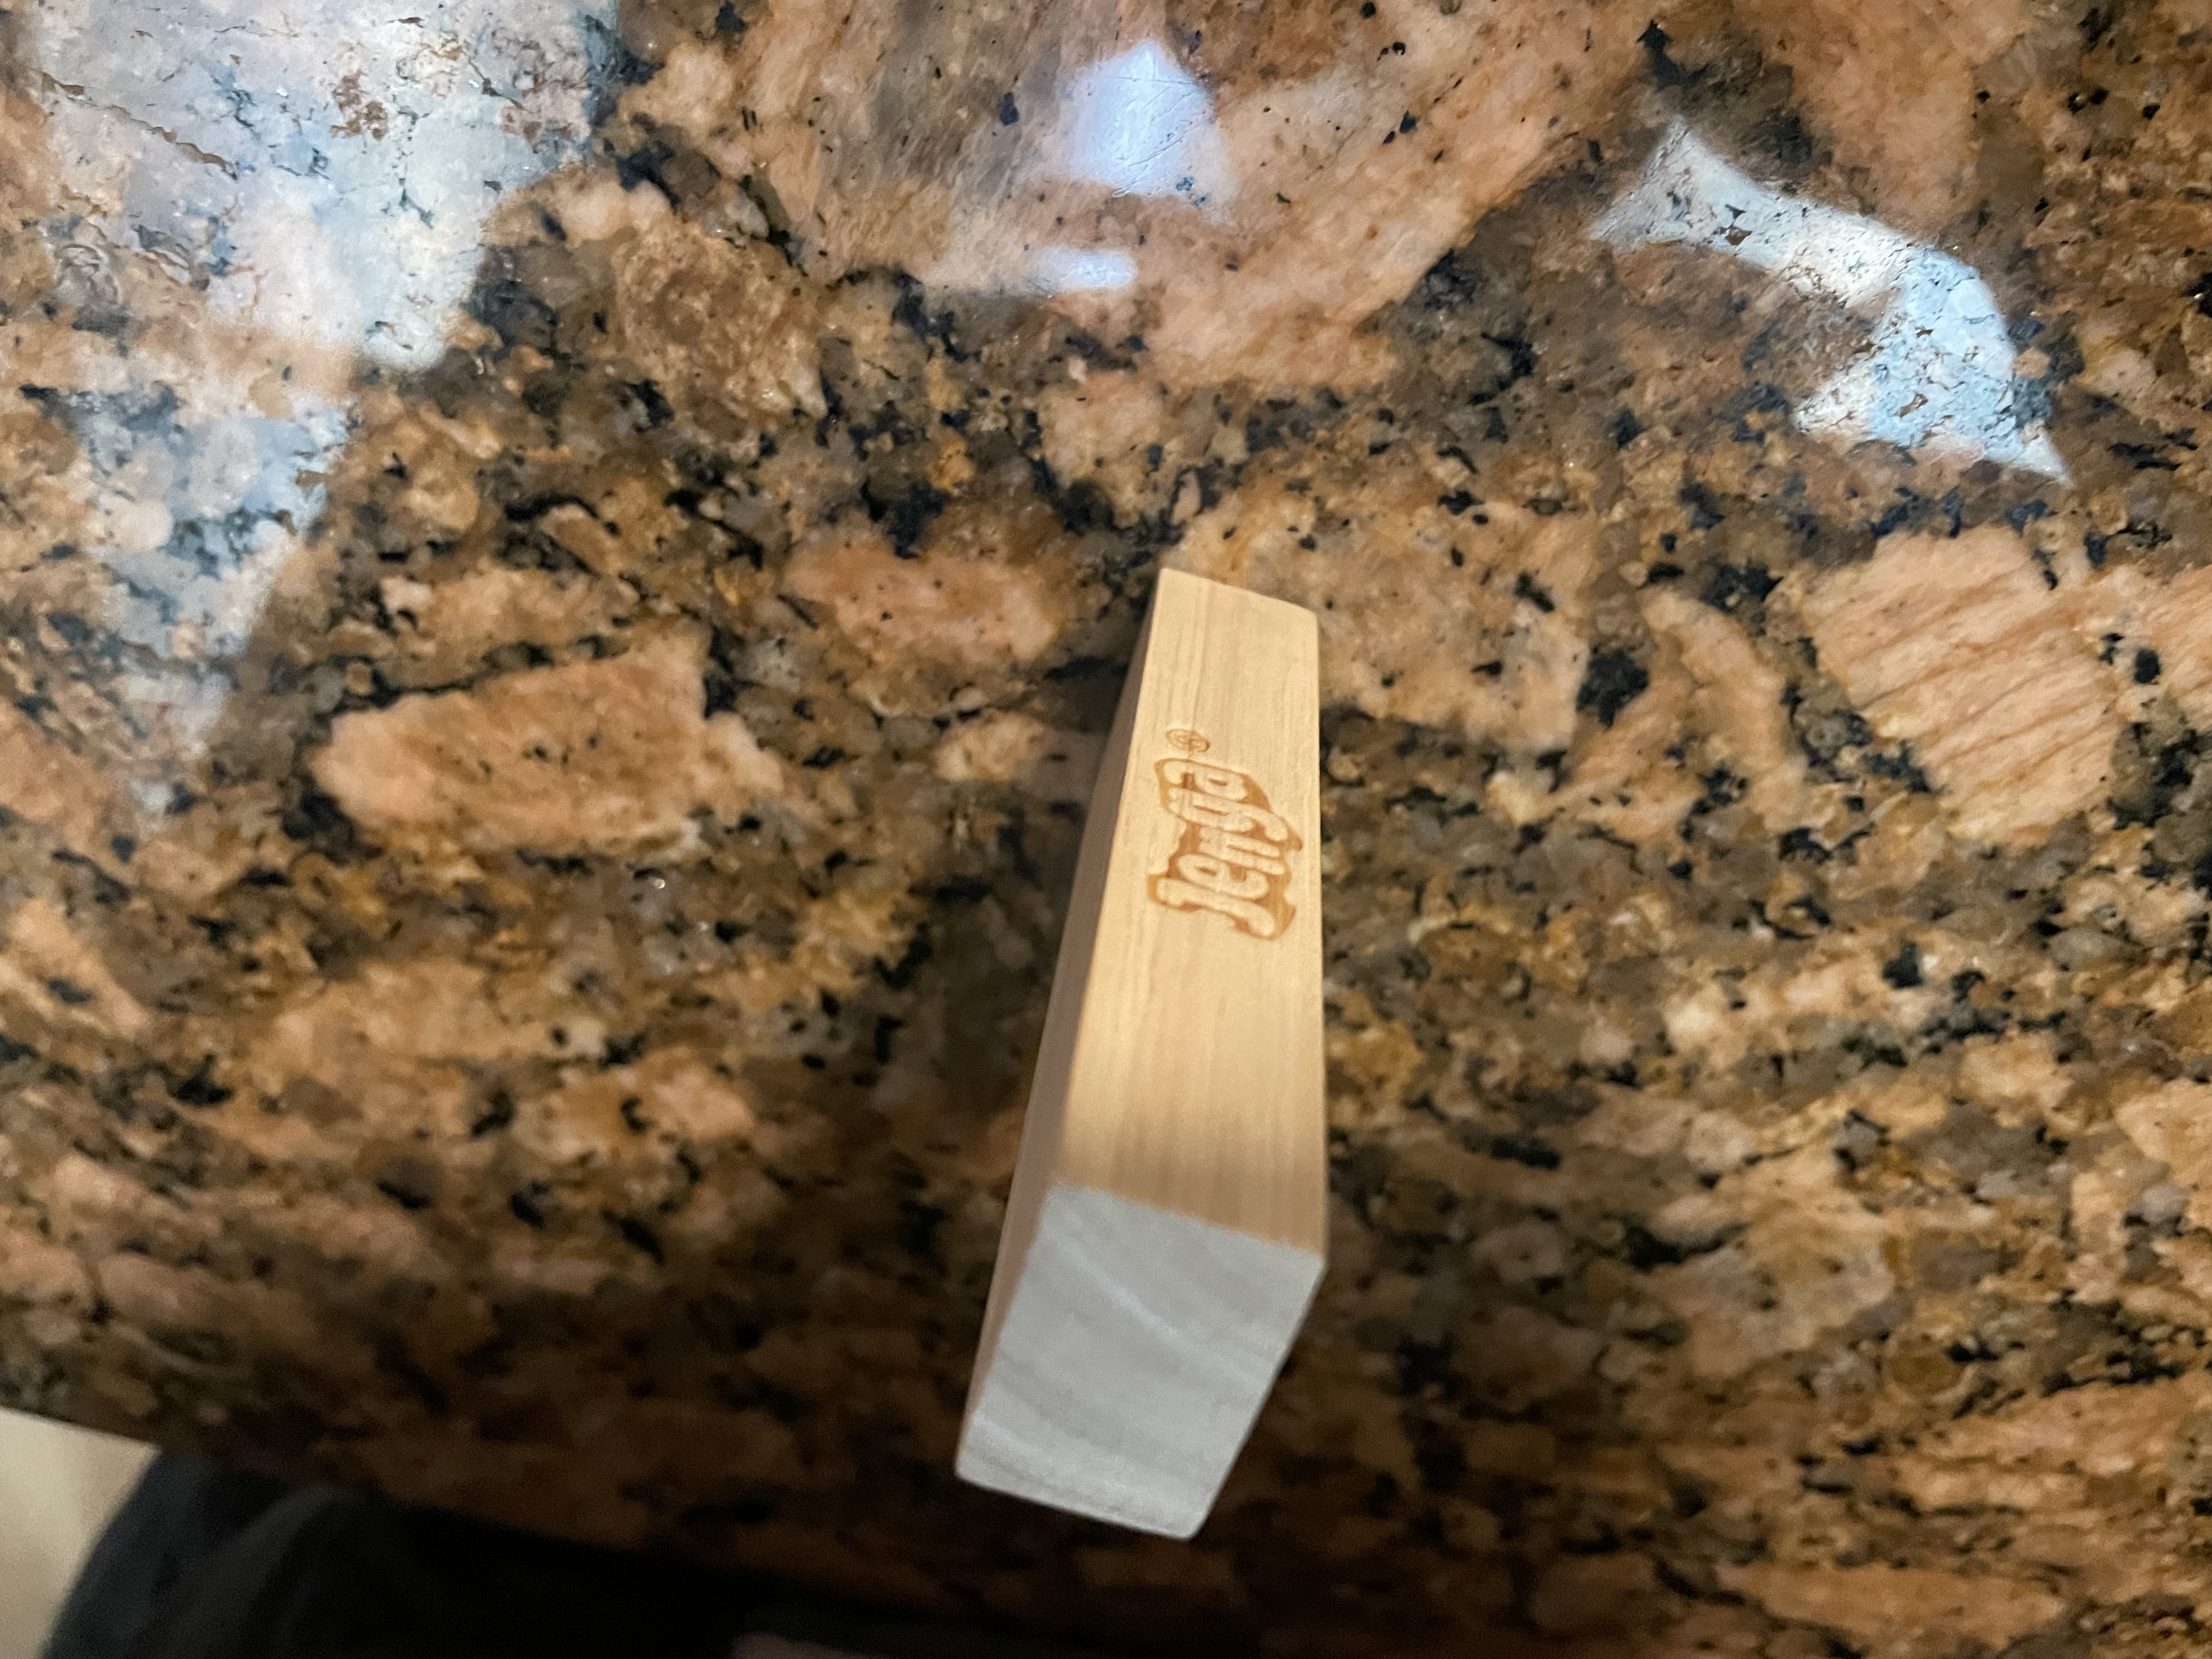jenga: (948, 561, 1324, 1549)
